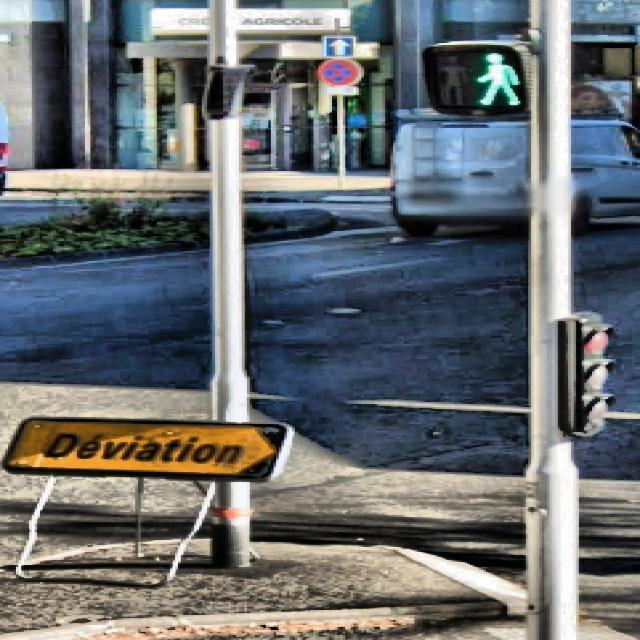green_light: (462, 48, 527, 109)
